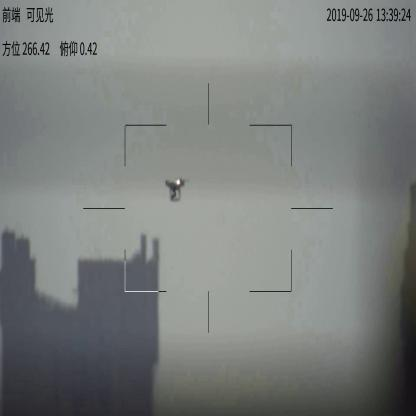uav: (162, 177, 187, 202)
